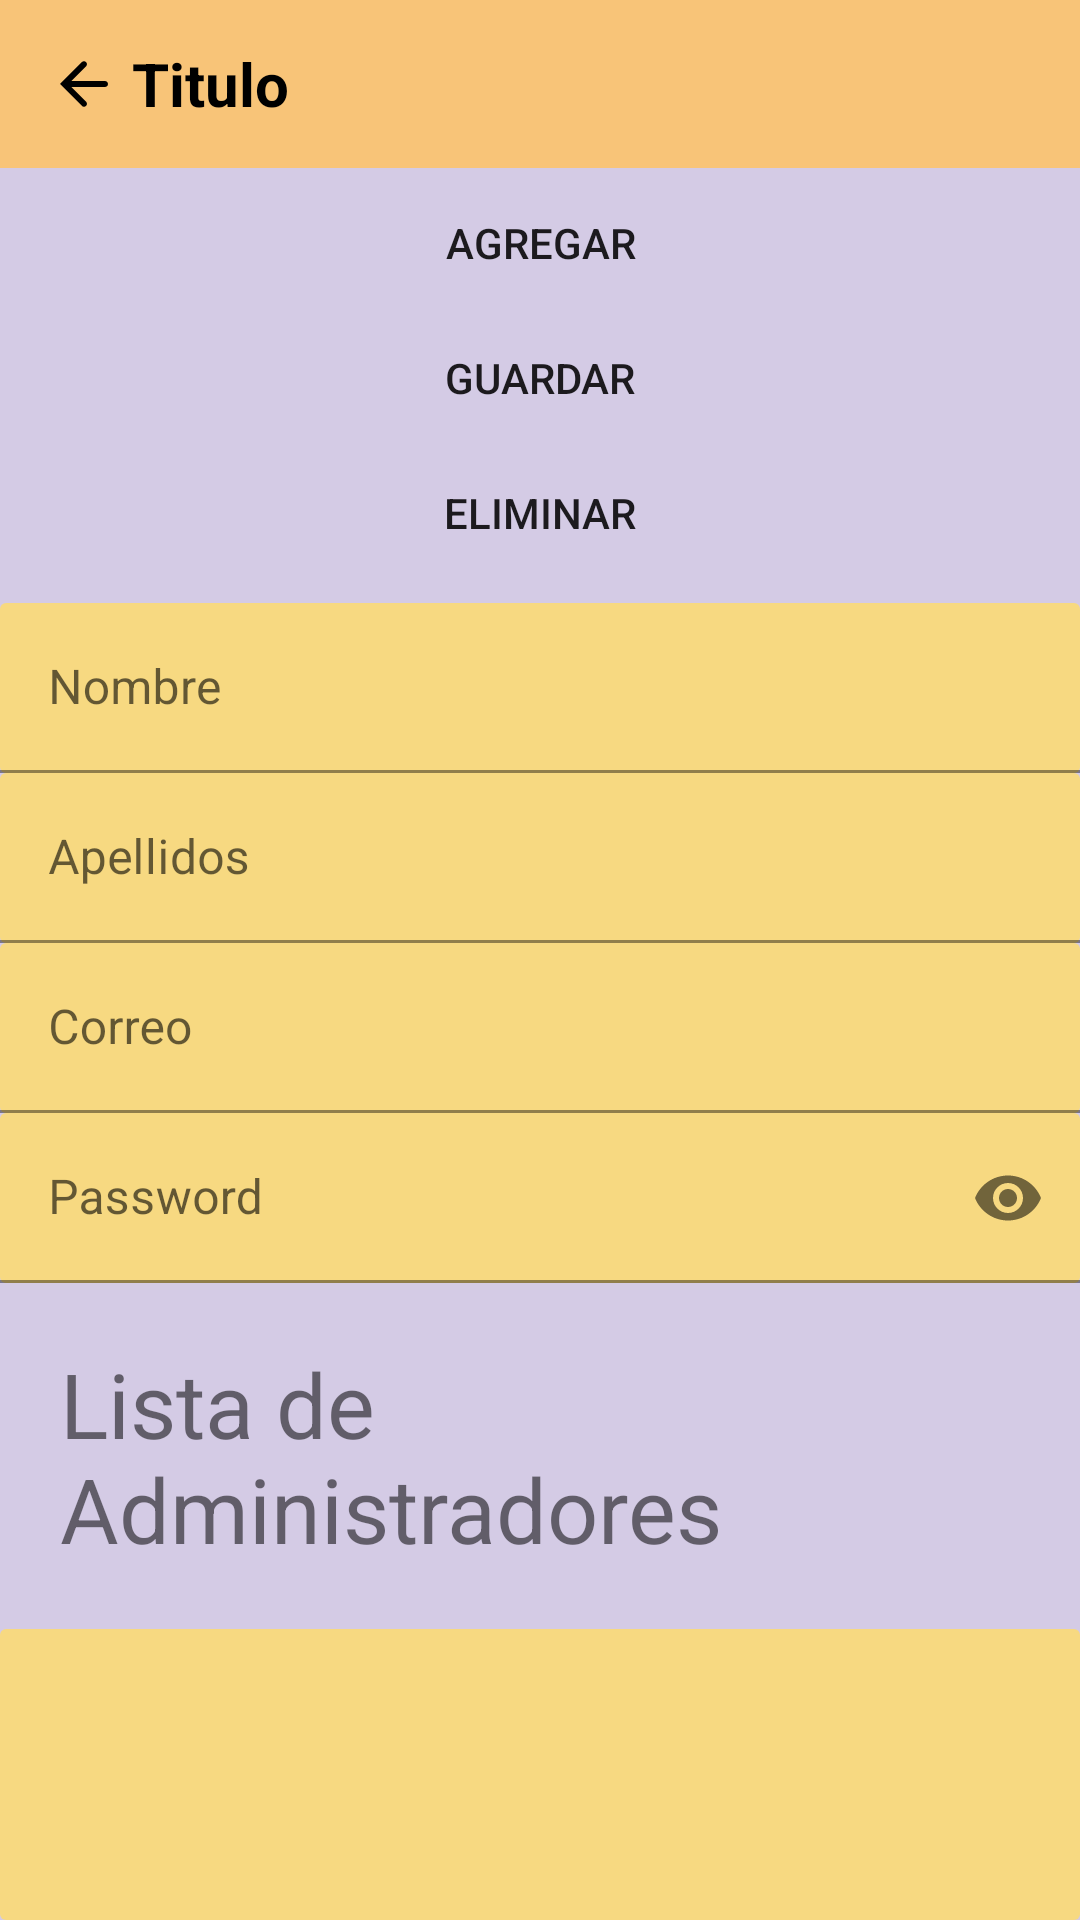

Screen size 1080px×1920px. Icon name, then its box in pixels as (x1=x1, y1=y1, x2=x2, y2=y2):
arrow left: (x1=60, y1=61, x2=108, y2=107)
